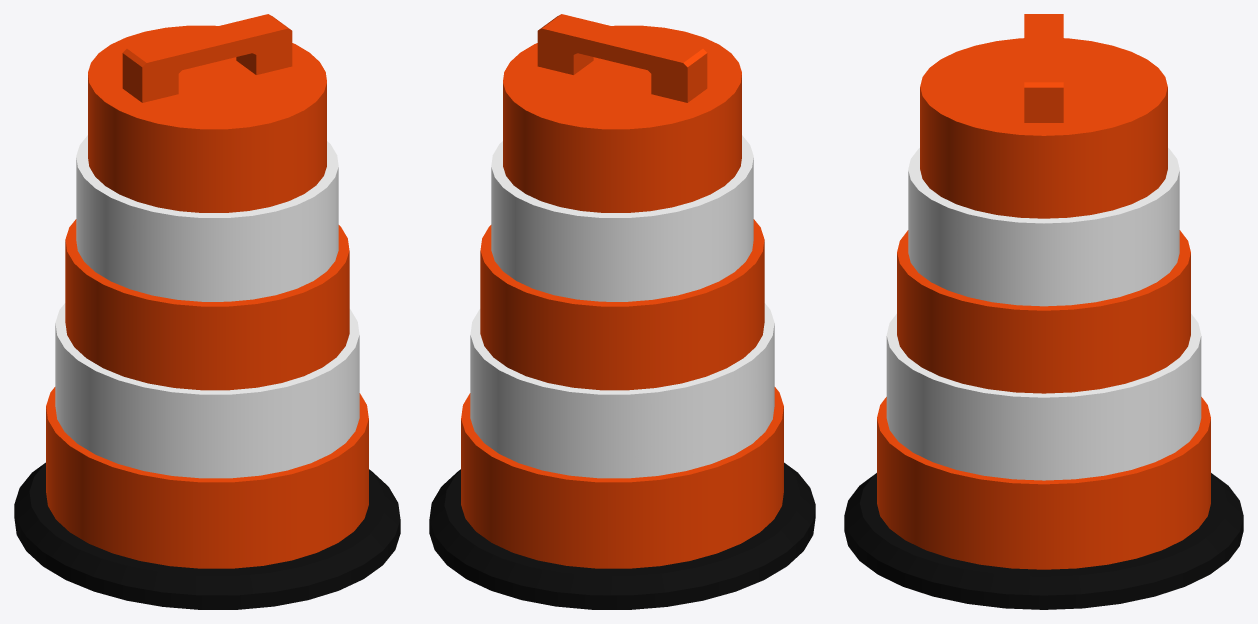
The model's file is Cones_B.fbx.
The picture shows the model from 3 angles, left to right: view 1: azimuth 30°, elevation 25°; view 2: azimuth 150°, elevation 25°; view 3: azimuth 270°, elevation 25°; orthographic projection.
Parts seen in each view (by area): view 1: Cones_B; view 2: Cones_B; view 3: Cones_B.
Boxes of the visible parts, x1,y1,x2,y2 form: Cones_B: [14, 14, 400, 609]; Cones_B: [429, 14, 815, 609]; Cones_B: [844, 14, 1243, 609].
Bounding box in the file's own units: 17.77 × 25.14 × 18.87.
